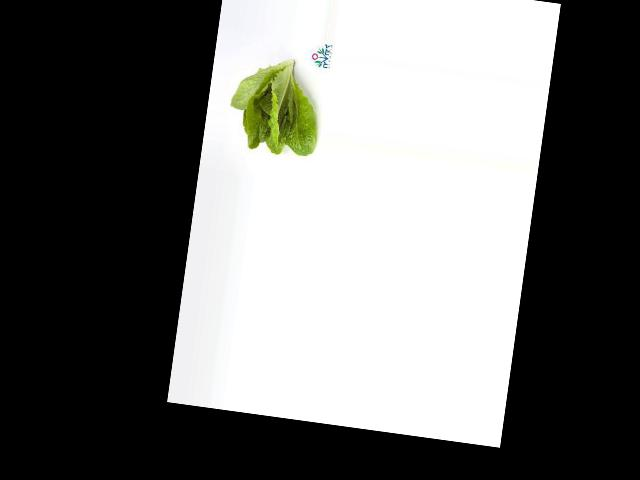lettuce: (233, 39, 370, 146)
